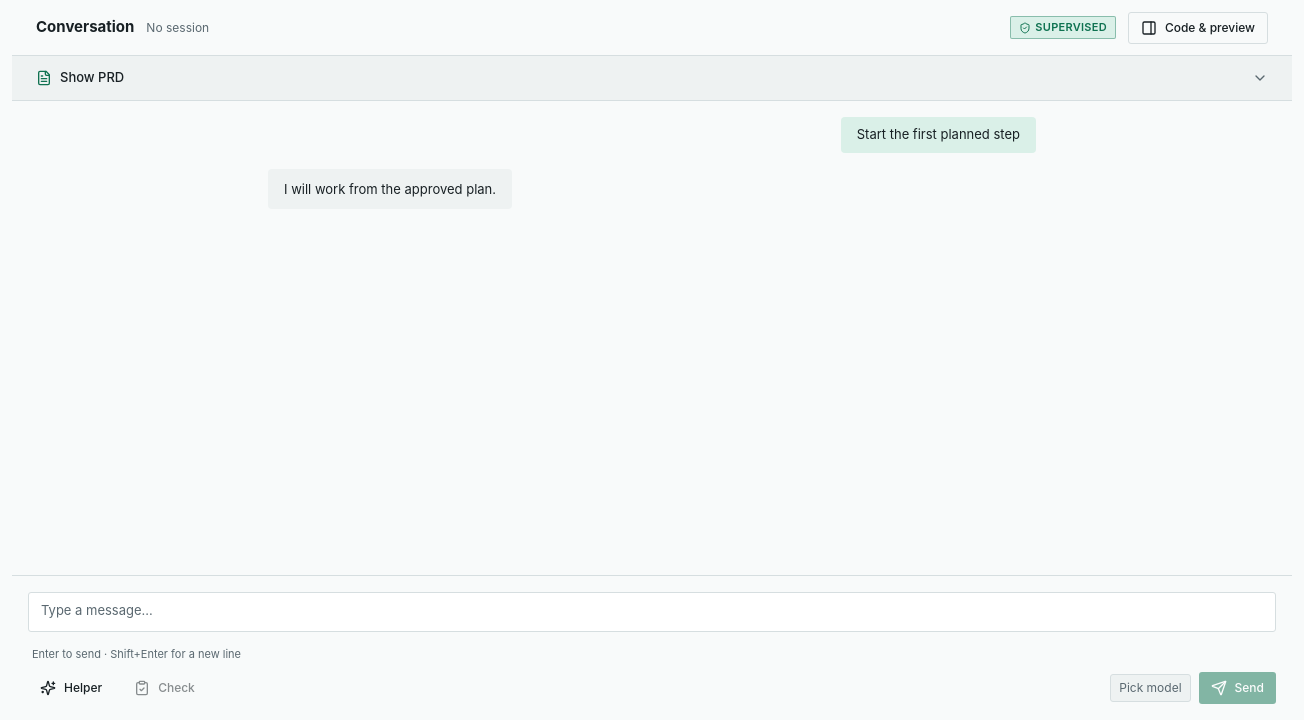
Test case: ChatArea PRD surface › keeps messages and composer available when the PRD is a collapsed reference
This screenshot has width=1304, height=720.
Expected: the element with test id "message-list" is shown, [268,117,1036,208]
Expected: the text "Start the first planned step" is shown, [857,125,1020,144]
Click the button with test id "prd-reference-toggle" at coordinates (92, 77), box [12,56,1292,100]
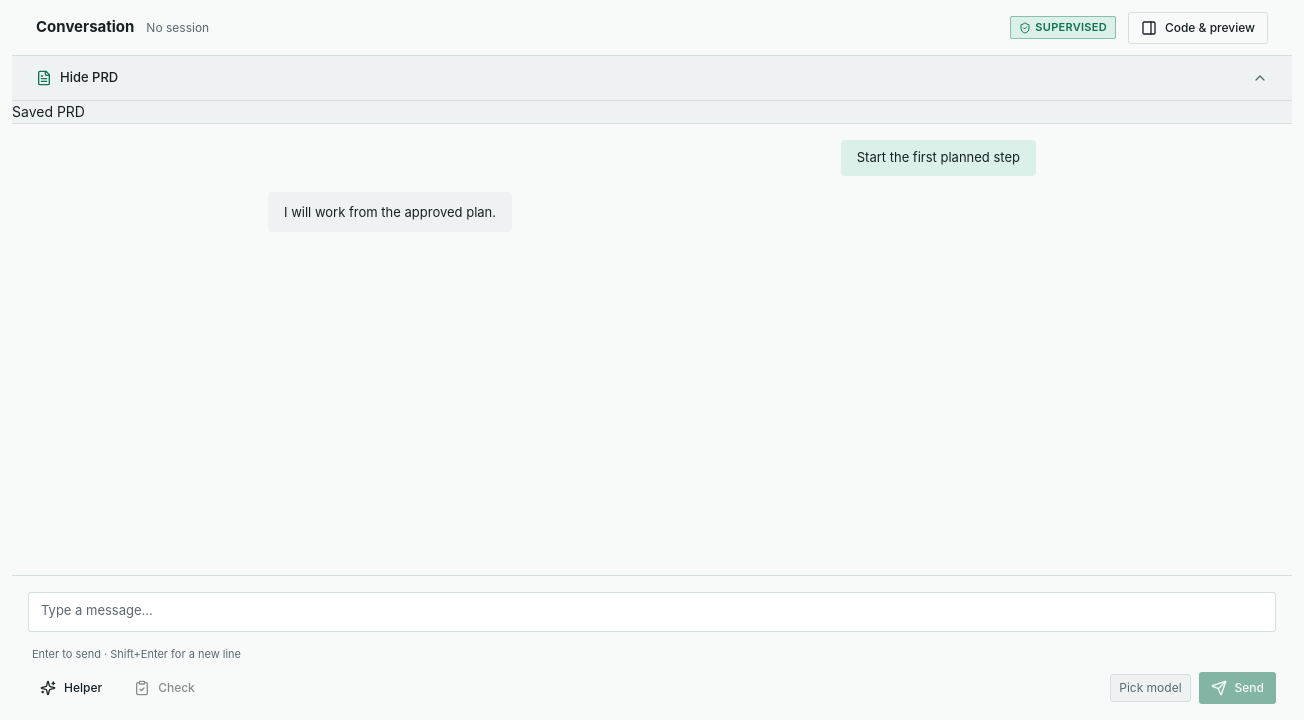
Expected: the element with test id "message-list" is shown, [268,140,1036,232]
Result: the button with test id "prd-reference-toggle" is expanded at [12,56,1292,100]
Result: the text "Saved PRD" is shown at [12,103,85,120]
